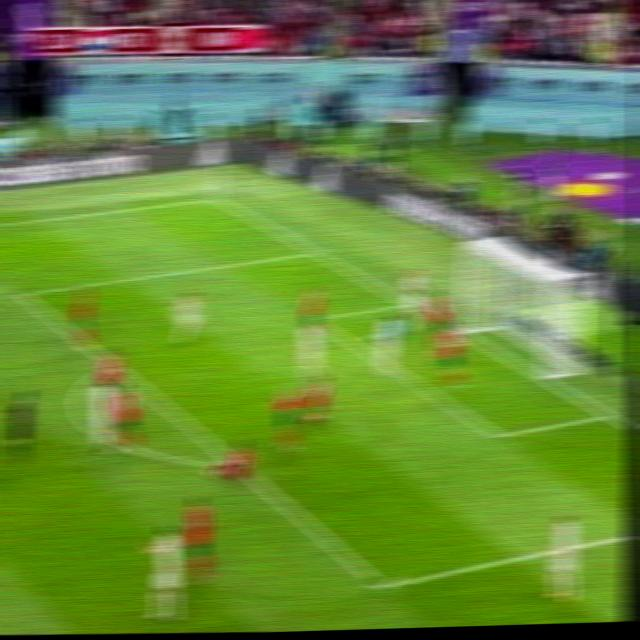bigarea_bottom_inner: (366, 565, 402, 606)
bigarea_top_inner: (13, 285, 33, 303)
bigarea_top_outter: (306, 245, 324, 258)
corner: (205, 193, 224, 204)
smallarea_bottom_inner: (486, 421, 511, 448)
smallarea_bottom_outter: (596, 404, 619, 423)
smallarea_top_inner: (310, 312, 325, 328)
